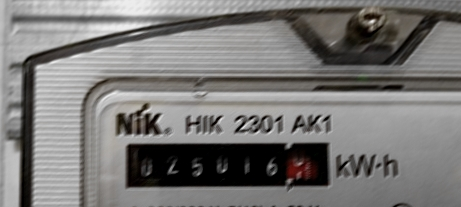0: (215, 151, 229, 174), (139, 155, 152, 177), (291, 146, 303, 166)
1: (240, 150, 251, 175), (293, 169, 301, 180)
2: (165, 152, 178, 175)
5: (190, 155, 201, 176)
6: (264, 153, 277, 178)
screen: (116, 133, 338, 195)
